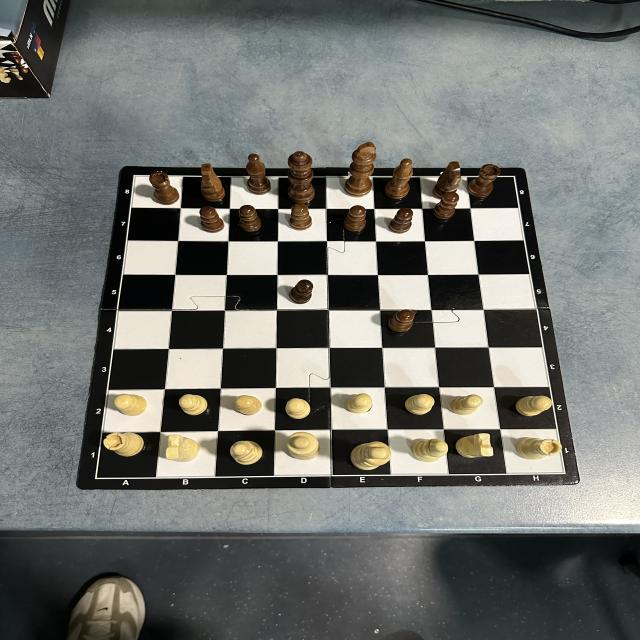Black-Bishop: (384, 158, 415, 199), (247, 154, 272, 195)
Black-King: (343, 142, 376, 197)
Black-Knight: (432, 162, 462, 198), (200, 164, 225, 202)
Black-Pawn: (433, 192, 461, 220), (388, 208, 416, 234), (343, 205, 368, 232), (288, 203, 312, 231), (200, 206, 224, 233), (238, 205, 262, 232), (289, 279, 314, 304), (388, 310, 416, 332)
Black-Queen: (286, 152, 315, 204)
Black-Rook: (468, 164, 502, 198), (148, 171, 180, 205)
White-Bishop: (412, 438, 449, 462), (229, 440, 263, 465)
White-King: (351, 442, 391, 472)
White-Knight: (455, 432, 494, 458), (166, 434, 201, 462)
White-Pawn: (515, 396, 553, 417), (113, 394, 149, 416), (451, 394, 483, 415), (178, 394, 208, 416), (405, 394, 435, 415), (285, 398, 312, 420), (346, 393, 374, 414), (236, 396, 262, 415)
White-Queen: (286, 432, 320, 460)
White-Rook: (517, 434, 562, 460), (103, 432, 144, 457)
